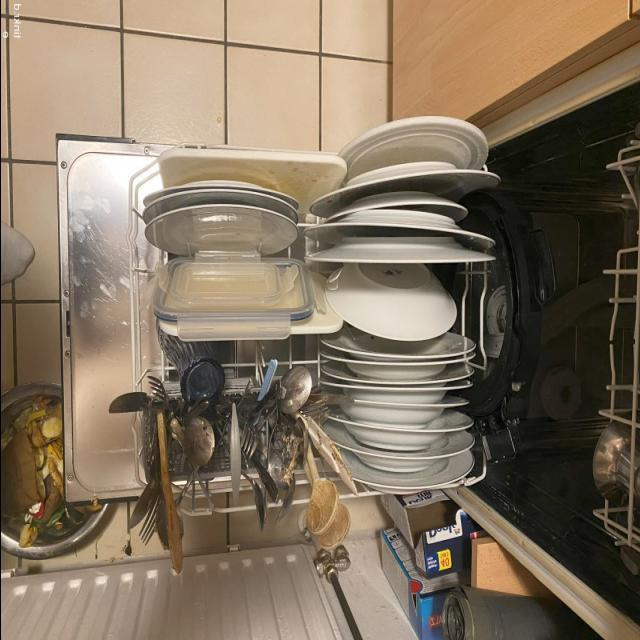clutery_bin: (142, 367, 346, 528)
